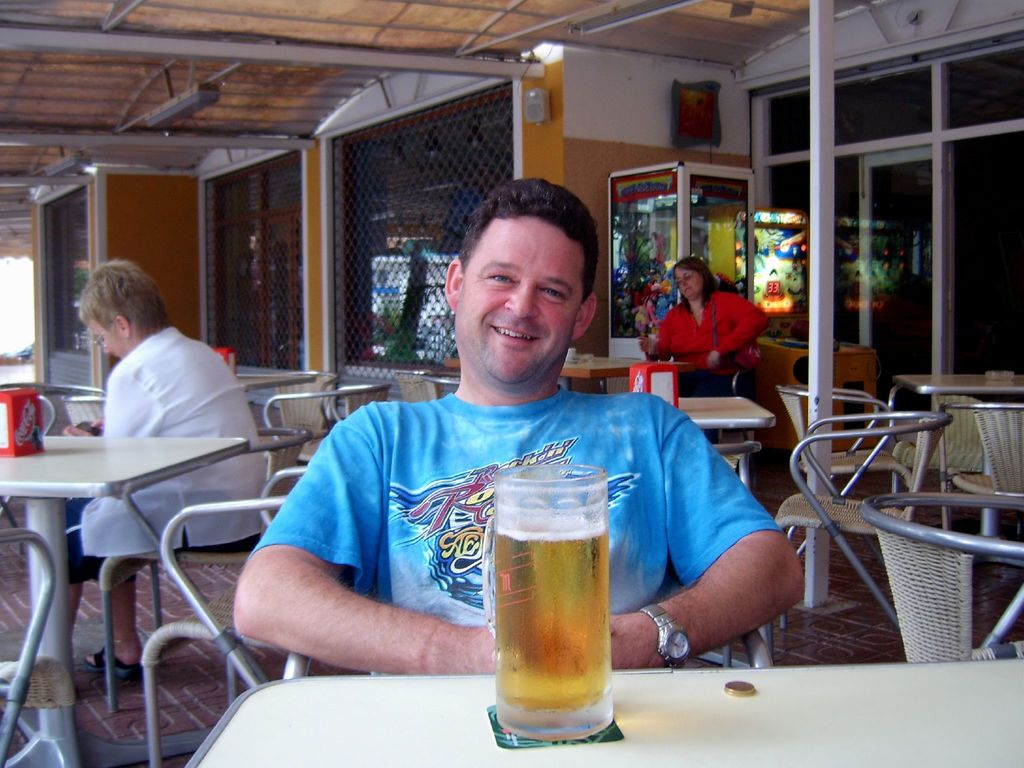Beer: (498, 515, 608, 709)
